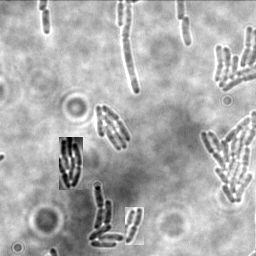Dividing: (123, 1, 142, 95), (125, 207, 144, 245), (41, 8, 52, 35)
Microcolony: (200, 109, 255, 205), (212, 25, 255, 94), (89, 184, 126, 248), (96, 103, 132, 150), (59, 137, 83, 190), (182, 16, 193, 48)
